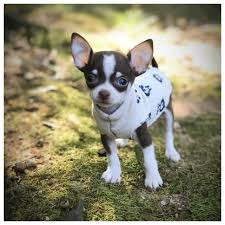chihuahua: (70, 32, 182, 189)
